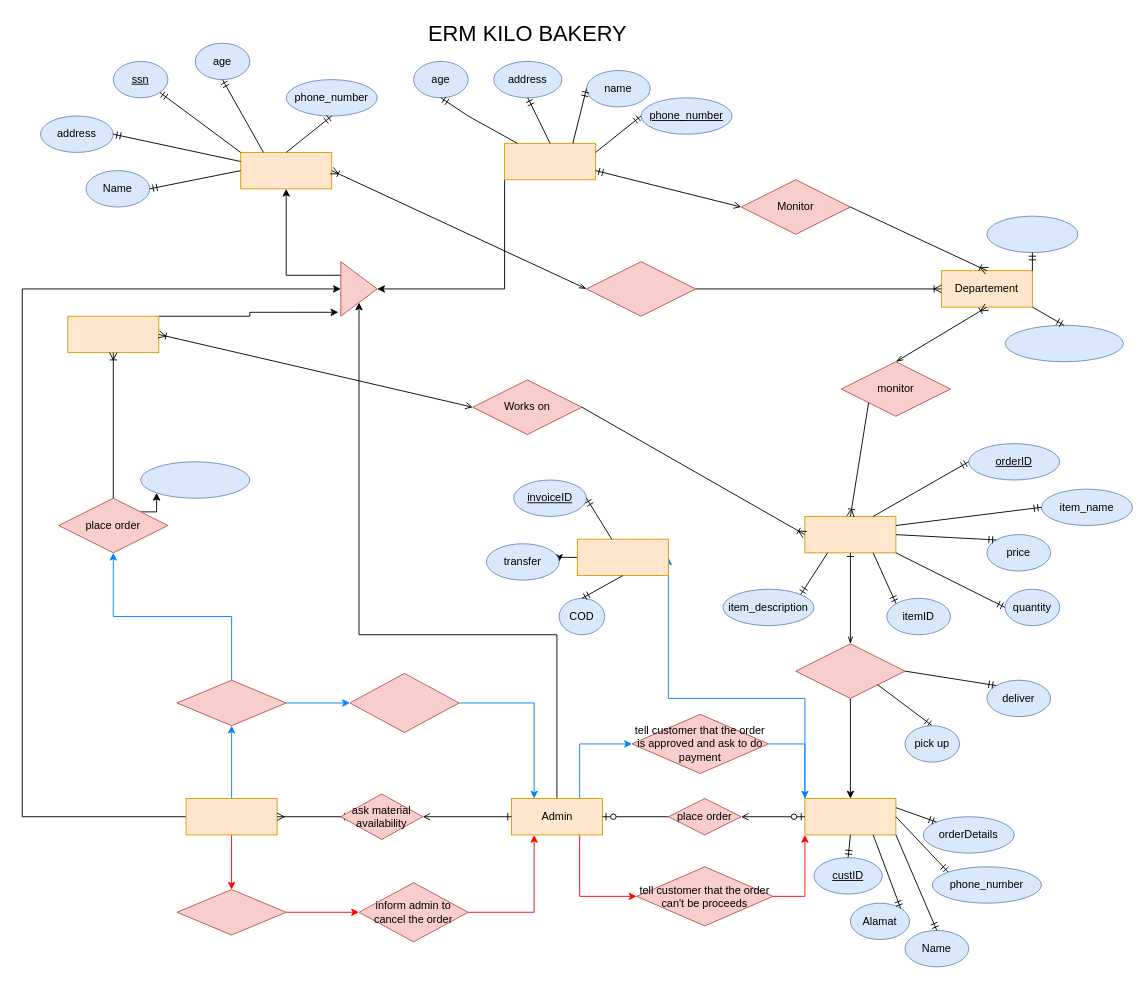
Image size: 1148x983. Some labels were removed from this diagram. Each missing label, with the centre of its shape:
Baker: [113,334]
Customer: [850,816]
deptID: [1032,234]
Employee: [286,170]
inform admin to proceed payment form customer: [404,702]
ISA: [358,288]
Manager/ Owner: [550,161]
material available: [231,702]
material not available: [231,912]
number_of_employee: [1063,343]
Order: [850,534]
Payment: [622,557]
Quality_Control: [231,816]
receive: [850,670]
tanggal_pemesanan: [195,479]
Works for: [641,288]
